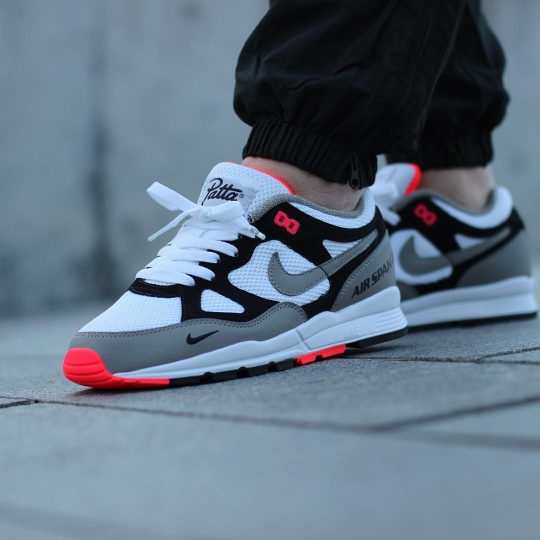nike: (265, 232, 385, 298), (398, 225, 517, 278), (183, 327, 221, 346)
